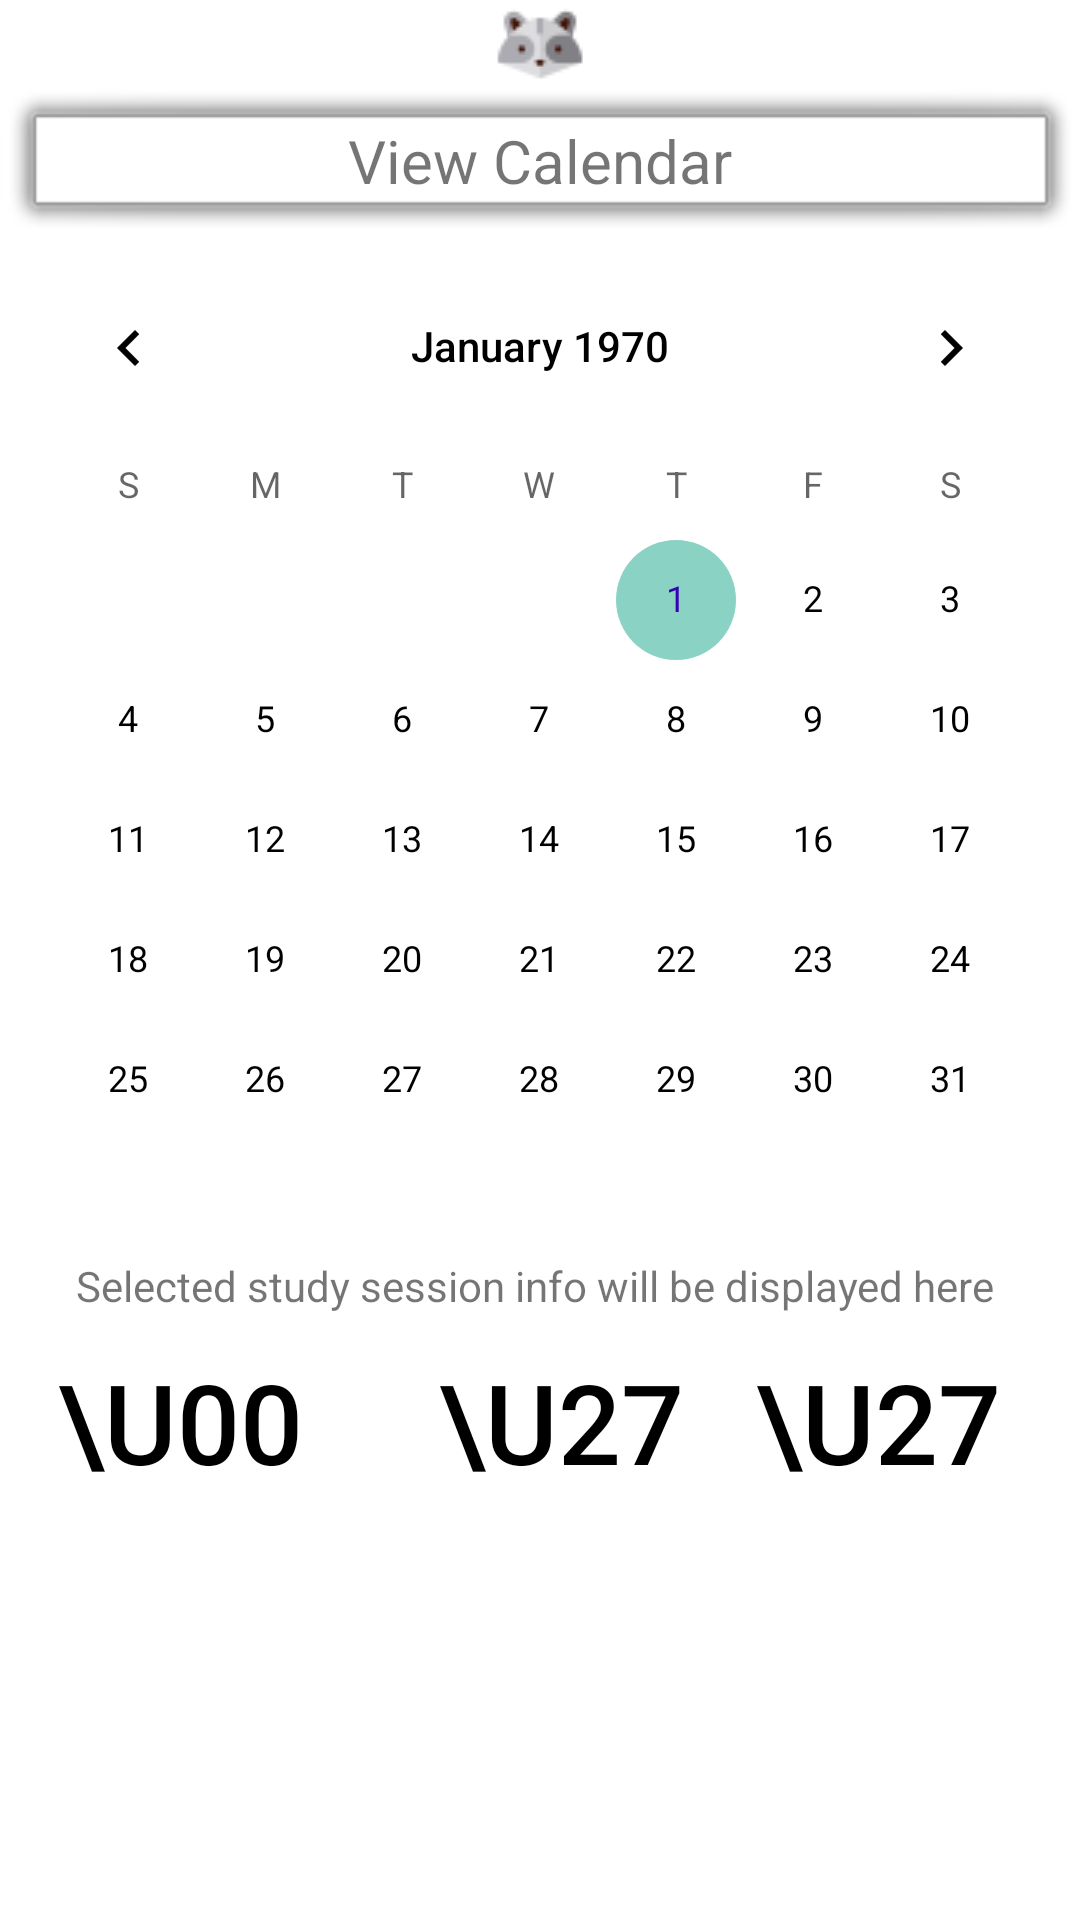

Screen size 1080 × 1920. Icon name, then its center in pixels as (x=x, y=y):
raccoonface: (x=540, y=44)
